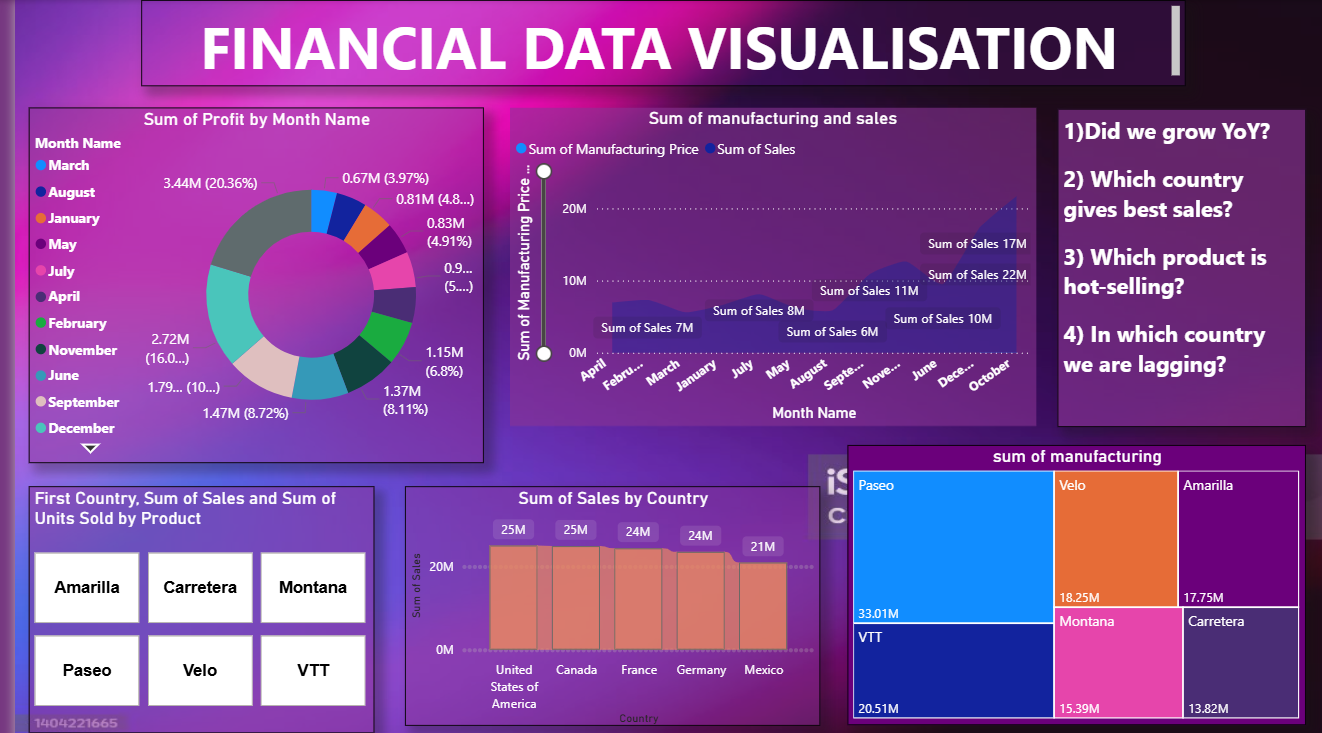

What the dashboard file says about the page in this screenshot:
{"tool":"powerbi","page":{"name":"Page 1","canvas":[1280,720],"ordinal":0},"visuals":[{"type":"textbox","box":[121.7,0,1008.3,83.3],"z":0},{"type":"donutChart","fields":{"Y":["Sum(financials.Profit)"],"Category":["financials.Month Name"]},"box":[13.7,104.3,439.1,343.1],"z":1000},{"type":"columnChart","fields":{"Category":["financials.Country"],"Y":["Sum(financials.Sales)"]},"box":[376,469,401,231],"z":2000},{"type":"treemap","title":"sum of manufacturing ","fields":{"Values":["Sum(financials.Sales)"],"Group":["financials.Product"]},"box":[804,430,442,270],"z":3000},{"type":"advancedSlicerVisual","fields":{"Values":["financials.Product"]},"box":[13.7,469.3,333.4,238.8],"z":4000},{"type":"stackedAreaChart","title":"Sum of manufacturing  and sales","fields":{"Category":["financials.Month Name"],"Y":["Sum(financials.Manufacturing Price)","Sum(financials.Sales)"]},"box":[477.5,104.3,507.7,307.4],"z":5000},{"type":"textbox","box":[1006.4,104.5,240.1,307.3],"z":6000}]}

Visuals, with their boxes in screenshot pixels (x1, y1, x2, y2), scaled from the page's 1280x720 canvas onto the 1322x733 screenshot:
textbox: region(126, 0, 1167, 85)
donutChart - Sum(financials.Profit) x financials.Month Name: region(14, 106, 468, 455)
columnChart - financials.Country x Sum(financials.Sales): region(388, 477, 802, 713)
"sum of manufacturing " treemap: region(830, 438, 1287, 713)
advancedSlicerVisual - financials.Product: region(14, 478, 358, 721)
"Sum of manufacturing  and sales" stackedAreaChart: region(493, 106, 1018, 419)
textbox: region(1039, 106, 1287, 419)
